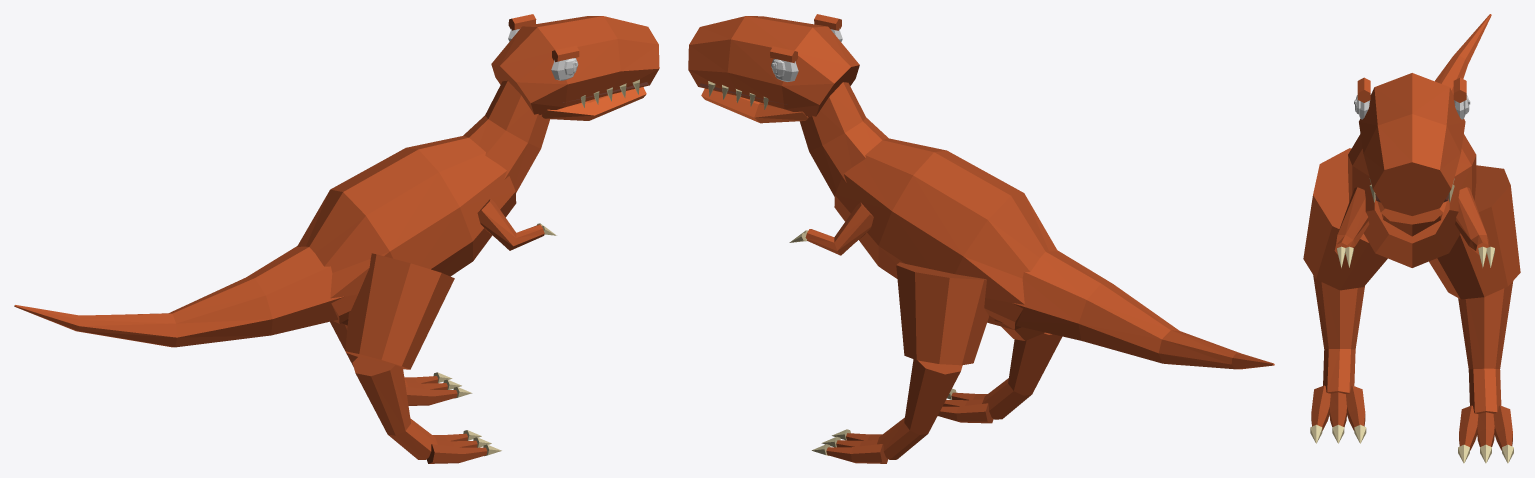
The model's file is SM_tyrannosaurus.fbx.
The picture shows the model from 3 angles, left to right: view 1: azimuth 30°, elevation 25°; view 2: azimuth 150°, elevation 25°; view 3: azimuth 270°, elevation 25°; orthographic projection. The views are drawn at different scales.
Parts seen in each view (by area): view 1: balanced torso, sinuous tail, sculpted skull, muscular thigh, athletic neck, angled shin, lower jaw, forearm, splayed toe, splayed toe.003; view 2: balanced torso, sinuous tail, sculpted skull, muscular thigh.001, athletic neck, angled shin.001, angled shin, lower jaw, forearm.001, splayed toe.005, splayed toe.002; view 3: sculpted skull, muscular thigh.001, muscular thigh, balanced torso, angled shin.001, angled shin, forearm.001, forearm, sinuous tail, lower jaw, splayed toe, splayed toe.005 (+7 smaller).
Boxes of the visible parts, x1,y1,x2,y2 form: balanced torso: (297,136,516,323); sinuous tail: (14,246,343,347); sculpted skull: (491,16,659,114); muscular thigh: (345,253,454,369); athletic neck: (463,80,550,192); angled shin: (352,356,437,459); lower jaw: (542,87,646,120); forearm: (477,198,544,250); splayed toe: (426,444,487,463); splayed toe.003: (406,387,457,405); balanced torso: (834,138,1057,329); sinuous tail: (994,250,1274,369); sculpted skull: (688,16,859,117); muscular thigh.001: (896,262,988,365); athletic neck: (800,82,888,196); angled shin.001: (877,359,962,459); angled shin: (982,332,1062,419); lower jaw: (701,88,808,123); forearm.001: (805,202,873,255); splayed toe.005: (826,444,888,463); splayed toe.002: (938,403,993,423); sculpted skull: (1359,73,1465,215); muscular thigh.001: (1429,165,1520,299); muscular thigh: (1303,148,1387,290); balanced torso: (1348,134,1476,267); angled shin.001: (1458,281,1513,413); angled shin: (1313,275,1364,393); forearm.001: (1455,187,1489,255); forearm: (1334,187,1369,254); sinuous tail: (1435,14,1491,94); lower jaw: (1377,201,1446,224); splayed toe: (1311,385,1330,430); splayed toe.005: (1493,405,1512,450).
Size of the model in its own units: 976 by 277 by 586.
